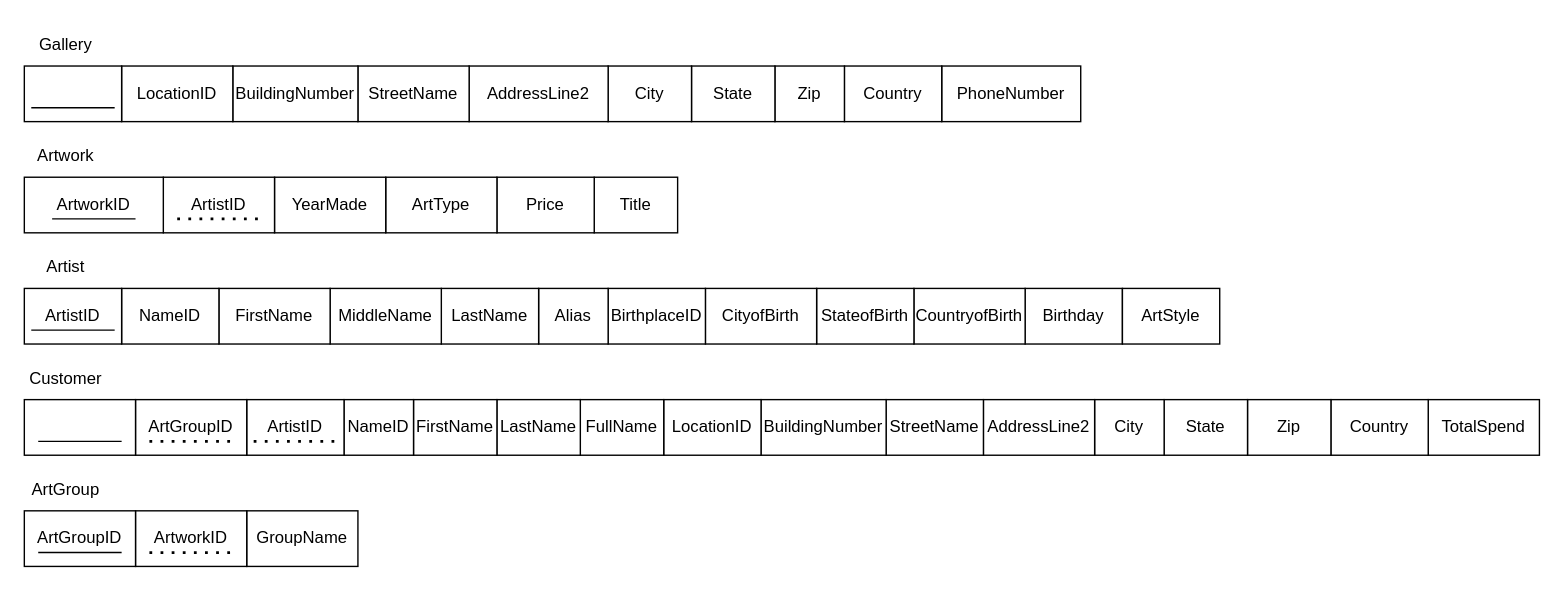
Some shapes in this 1564 by 591 pixel diagram are drawn without their labels. The box of each missing label's shape, as (x1, y1, x2, y2) in pixels:
CustomerID: (23, 398, 136, 455)
GalleryID: (23, 65, 122, 122)
